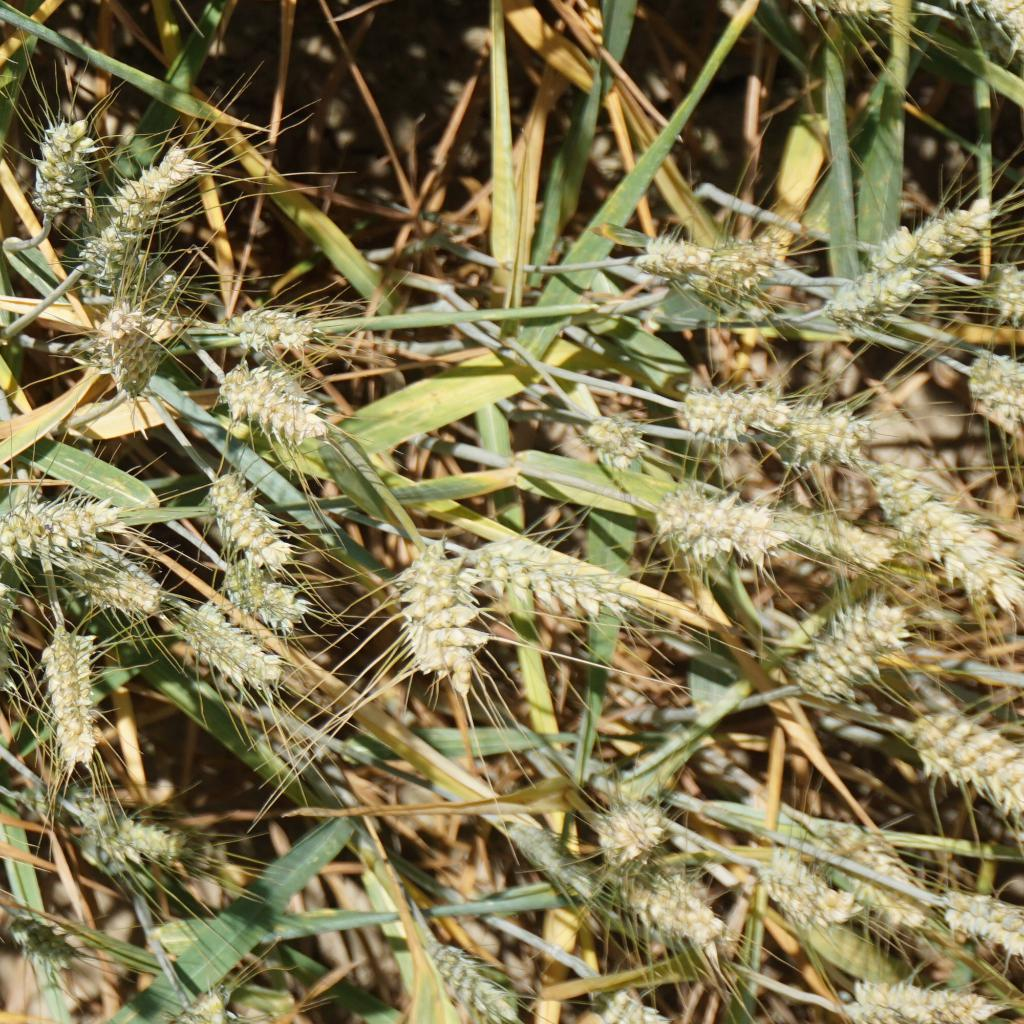0-0: (848, 450, 1024, 610), (451, 540, 653, 636), (387, 537, 503, 698), (794, 813, 937, 920), (65, 775, 223, 871), (781, 587, 912, 697), (876, 190, 1005, 274), (15, 108, 102, 228), (209, 357, 327, 443), (200, 470, 298, 572), (816, 249, 936, 331), (187, 601, 292, 694), (915, 709, 1024, 798), (32, 617, 99, 759), (764, 387, 883, 462), (658, 486, 776, 560), (615, 880, 729, 956), (671, 231, 782, 305), (95, 305, 170, 412), (660, 374, 771, 446), (751, 846, 850, 924), (777, 507, 891, 570), (565, 962, 679, 1024), (65, 543, 163, 615), (0, 486, 115, 547), (105, 146, 211, 208), (226, 546, 307, 627), (79, 213, 166, 287), (843, 978, 977, 1024), (219, 300, 328, 356), (423, 950, 502, 1024), (958, 349, 1024, 436), (948, 886, 1024, 954), (591, 796, 658, 860), (627, 221, 705, 274), (574, 402, 647, 457), (940, 0, 1024, 46), (775, 0, 887, 32), (964, 265, 1024, 318)
